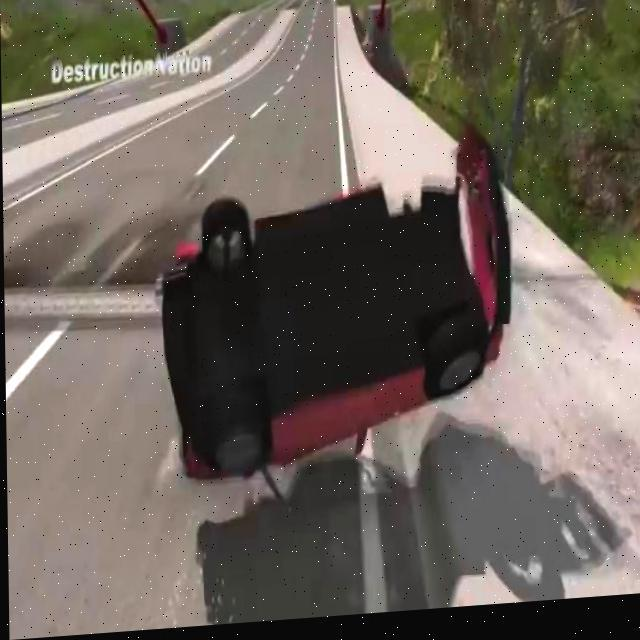single accident: (98, 65, 560, 487)
